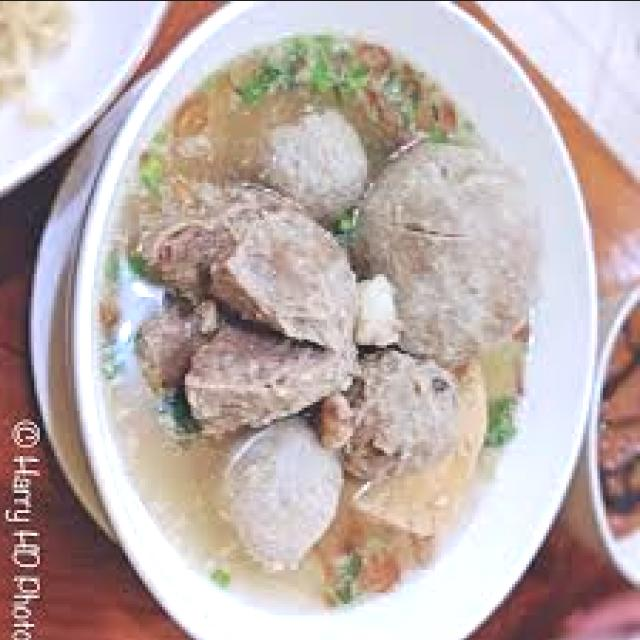bakso: (91, 34, 538, 609)
